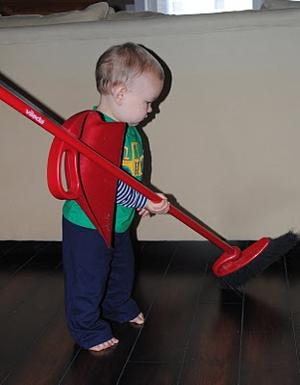person: (61, 42, 171, 357)
